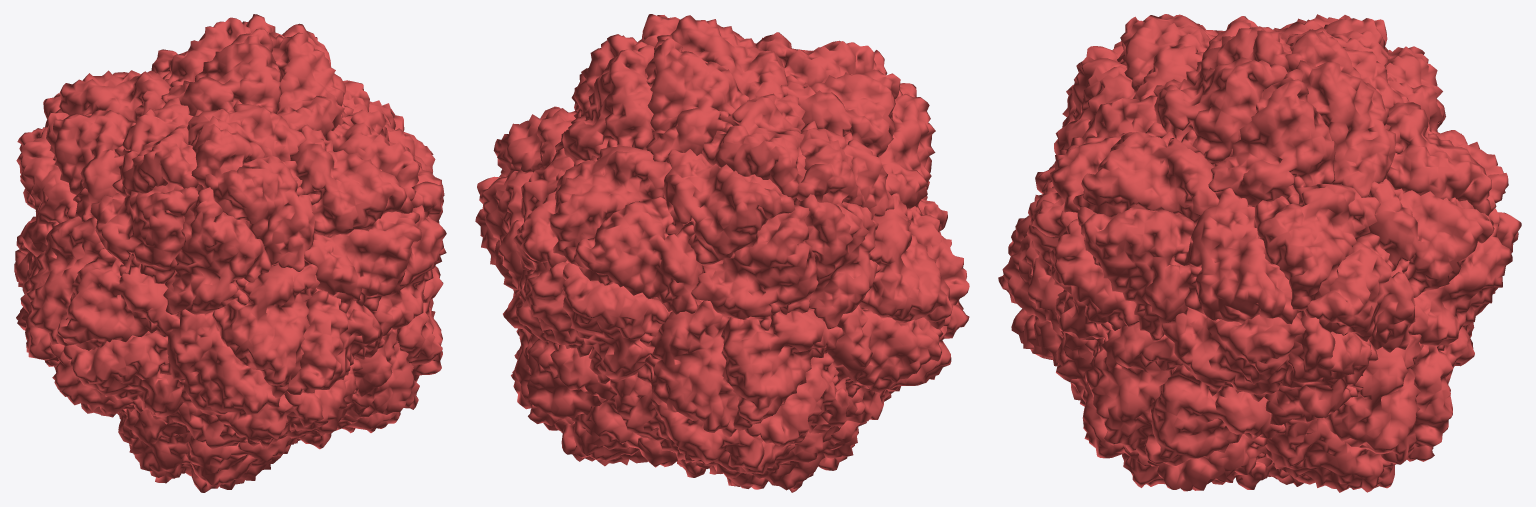
File: 2BUK_lower.glb
The picture shows the model from 3 angles, left to right: view 1: azimuth 30°, elevation 25°; view 2: azimuth 150°, elevation 25°; view 3: azimuth 270°, elevation 25°; orthographic projection. The views are drawn at different scales.
Size of the model in its own units: 200 by 199 by 196.
